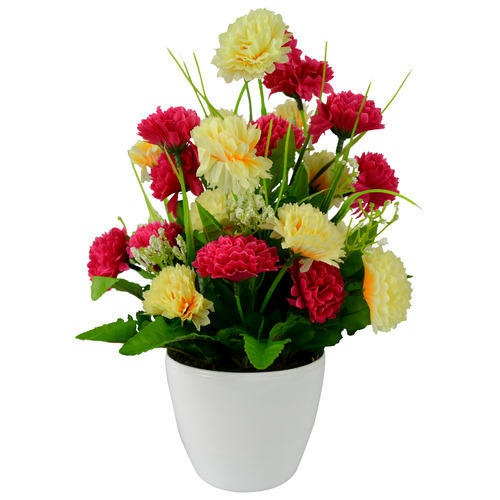flowerpot: (164, 343, 324, 493)
